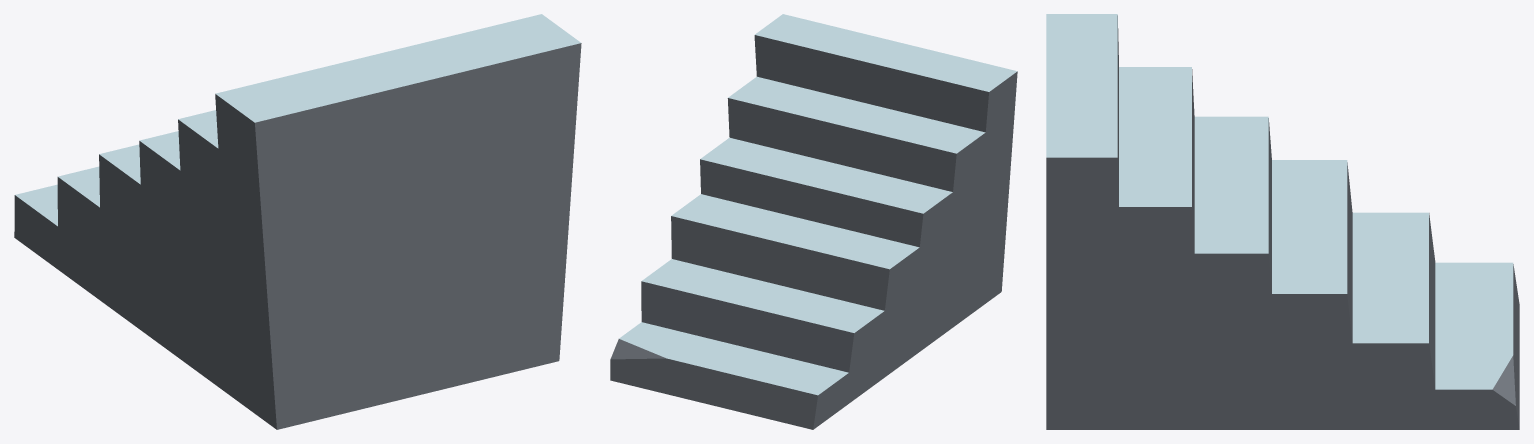
File: SM_Prop_Stairs_Stone_02_Snow.fbx
3 renders of one model, left to right at view 1: azimuth 30°, elevation 25°; view 2: azimuth 150°, elevation 25°; view 3: azimuth 270°, elevation 25°, orthographic. The views are drawn at different scales.
Parts seen in each view (by area): view 1: SM_Prop_Stairs_Stone_02_Snow; view 2: SM_Prop_Stairs_Stone_02_Snow; view 3: SM_Prop_Stairs_Stone_02_Snow.
Boxes of the visible parts, box(x1,y1,x2,y2) form: SM_Prop_Stairs_Stone_02_Snow: box(14, 14, 581, 429); SM_Prop_Stairs_Stone_02_Snow: box(610, 14, 1017, 429); SM_Prop_Stairs_Stone_02_Snow: box(1046, 14, 1519, 429).
Size of the model in its own units: 52.42 by 47.94 by 72.97.
1 material, 1 textured.
